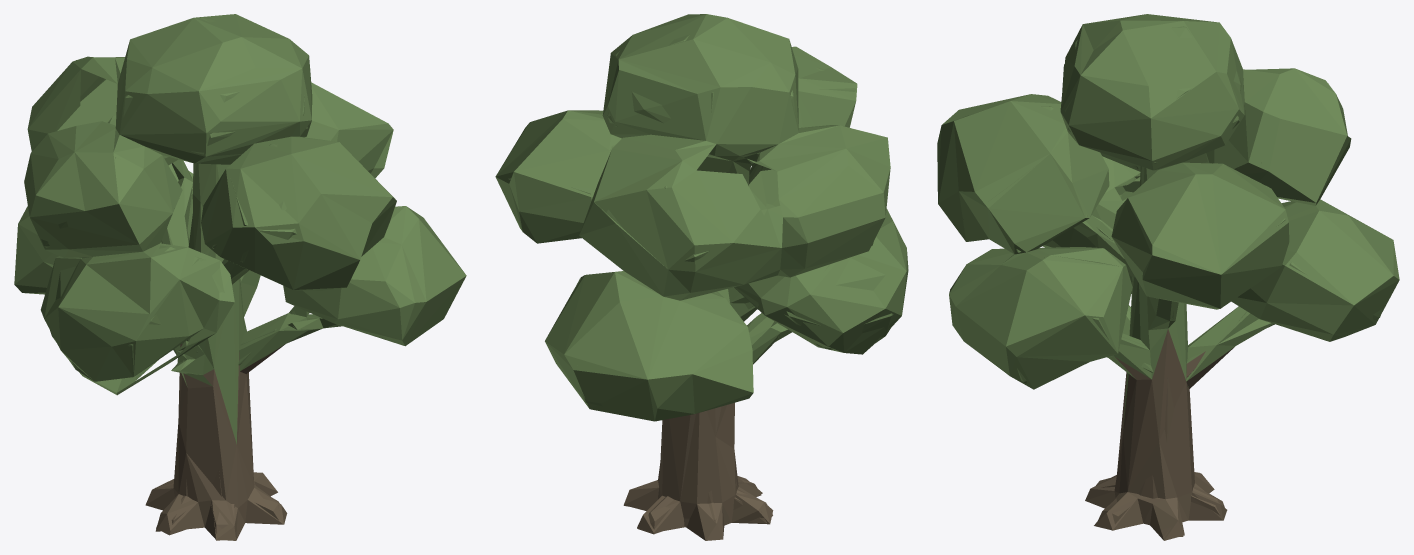
Rendered from ENV_09_OAK_game.glb.
3 views of the same model, side by side, from view 1: azimuth 30°, elevation 25°; view 2: azimuth 150°, elevation 25°; view 3: azimuth 270°, elevation 25° (orthographic).
Parts seen in each view (by area): view 1: ENV_09_OAK; view 2: ENV_09_OAK; view 3: ENV_09_OAK.
Part boxes in pixels (<box>): ENV_09_OAK: <box>14,14,466,540</box>; ENV_09_OAK: <box>495,14,908,540</box>; ENV_09_OAK: <box>937,14,1399,540</box>.
Size of the model in its own units: 4.83 by 6.2 by 5.36.
